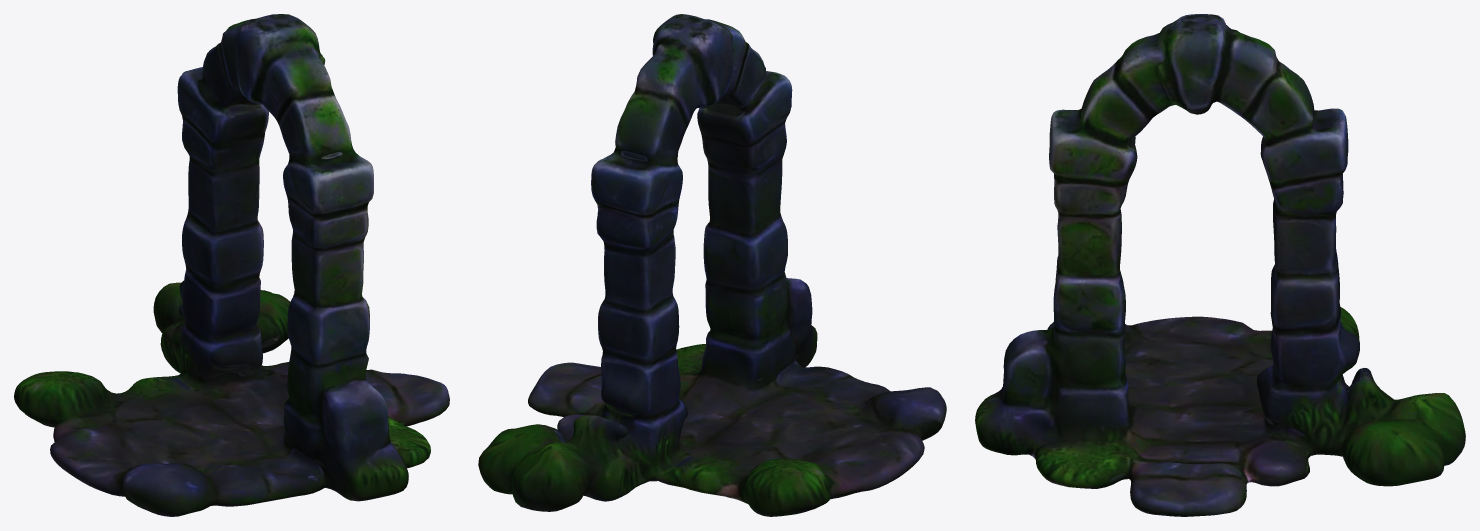
Rendered from low_poly_stone_arche-transformed.glb.
The picture shows the model from 3 angles, left to right: view 1: azimuth 30°, elevation 25°; view 2: azimuth 150°, elevation 25°; view 3: azimuth 270°, elevation 25°; orthographic projection. The views are drawn at different scales.
Parts seen in each view (by area): view 1: mesh_base_material_0; view 2: mesh_base_material_0; view 3: mesh_base_material_0.
Boxes of the visible parts, <box> form: mesh_base_material_0: <box>14,14,449,516</box>; mesh_base_material_0: <box>478,14,946,516</box>; mesh_base_material_0: <box>975,14,1465,516</box>.
Bounding box in the file's own units: 0.8977 × 0.9479 × 0.9994.
Materials: 1 (1 with a texture image).
